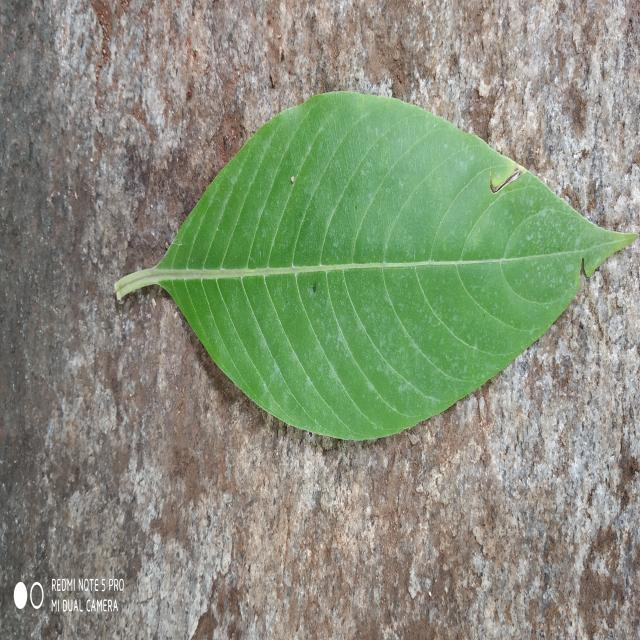malabar_nut: (116, 92, 636, 440)
